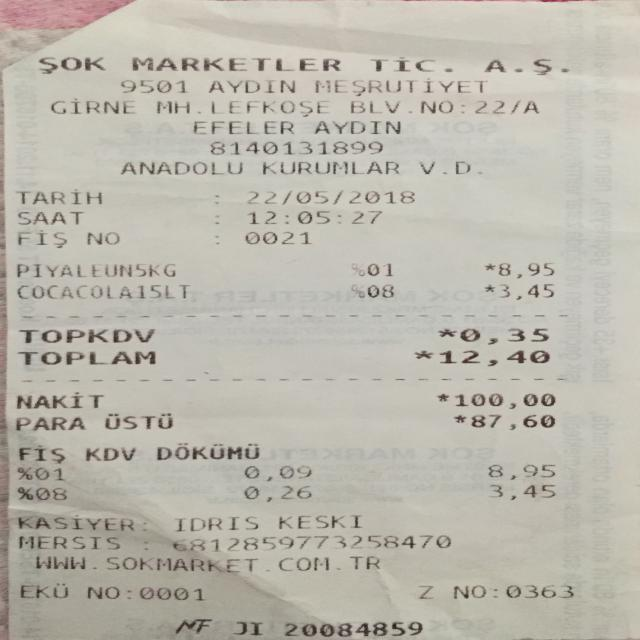text: (171, 531, 455, 553), (35, 553, 378, 571), (131, 54, 339, 74), (18, 280, 194, 302), (350, 97, 538, 117), (247, 188, 413, 206), (208, 138, 381, 155), (282, 616, 420, 636), (17, 261, 174, 277), (262, 158, 398, 176), (247, 208, 381, 226), (212, 97, 326, 117), (120, 158, 241, 176), (18, 326, 153, 342), (17, 349, 154, 364), (20, 531, 122, 550), (438, 348, 550, 365), (13, 514, 131, 530), (454, 391, 555, 409), (192, 118, 292, 136), (157, 443, 257, 461), (485, 56, 569, 76), (50, 97, 133, 117), (207, 77, 293, 96), (460, 326, 547, 344), (314, 118, 399, 136), (471, 412, 554, 430), (175, 513, 258, 531), (16, 391, 102, 408), (17, 188, 101, 205), (140, 582, 204, 604), (278, 513, 360, 530), (8, 413, 84, 431), (103, 411, 171, 431), (488, 481, 555, 500), (120, 76, 186, 95), (38, 54, 103, 73), (488, 462, 554, 480), (372, 55, 434, 74), (242, 484, 310, 501), (505, 582, 573, 599), (420, 158, 481, 176), (243, 230, 310, 246), (242, 465, 310, 480), (498, 260, 554, 278), (17, 210, 82, 225), (21, 580, 67, 601), (84, 443, 135, 461), (16, 443, 63, 462), (499, 283, 554, 299), (17, 230, 65, 248), (17, 465, 64, 482), (349, 260, 392, 277), (171, 617, 213, 634), (158, 97, 190, 117), (348, 284, 393, 298), (88, 582, 118, 602), (452, 583, 485, 600), (84, 230, 116, 247), (232, 620, 262, 636), (35, 486, 66, 500), (437, 326, 455, 343), (414, 348, 431, 365), (197, 97, 209, 117), (418, 583, 432, 600), (17, 486, 33, 500), (485, 260, 495, 278), (454, 412, 464, 430), (484, 283, 494, 300), (438, 391, 448, 408), (492, 582, 497, 600), (7, 464, 9, 480)
